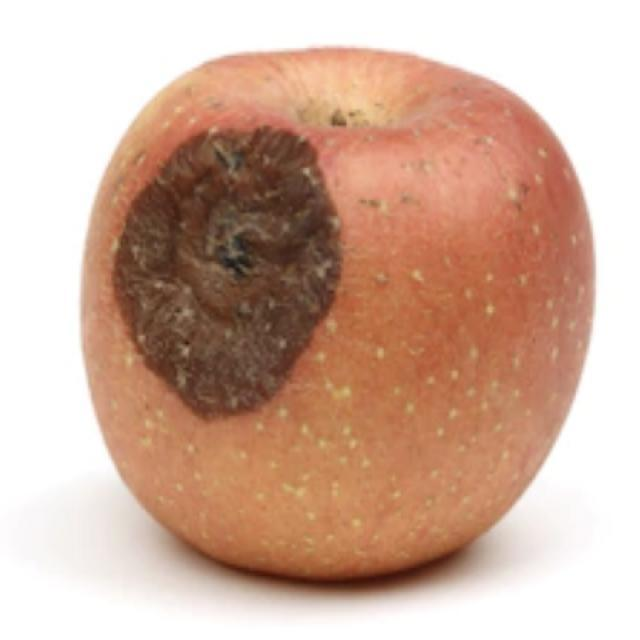Rotten: (110, 50, 582, 590)
